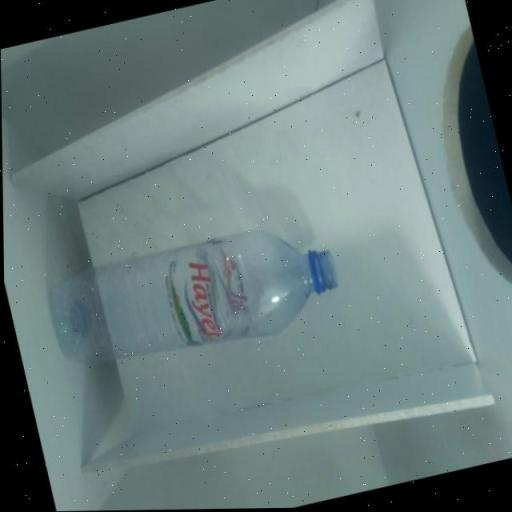plastic: (26, 186, 360, 405)
